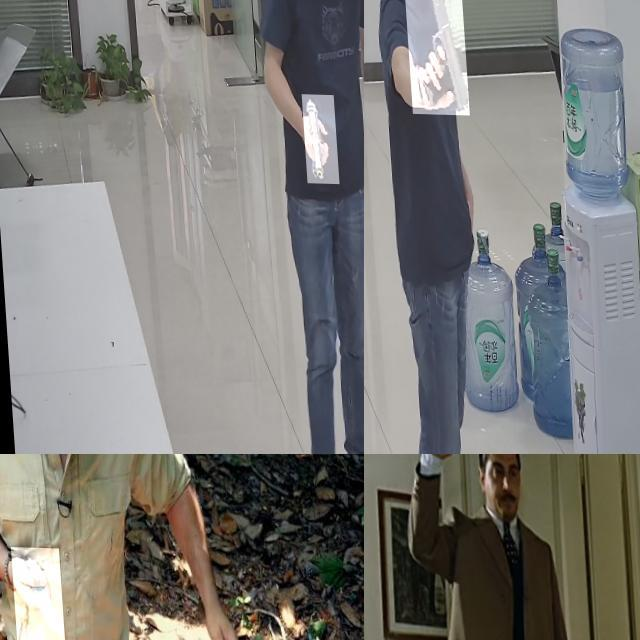-: (8, 545, 61, 640)
gun-knife-thesis - v11 Yolov5 augmented: (402, 0, 466, 112), (298, 92, 334, 182)
